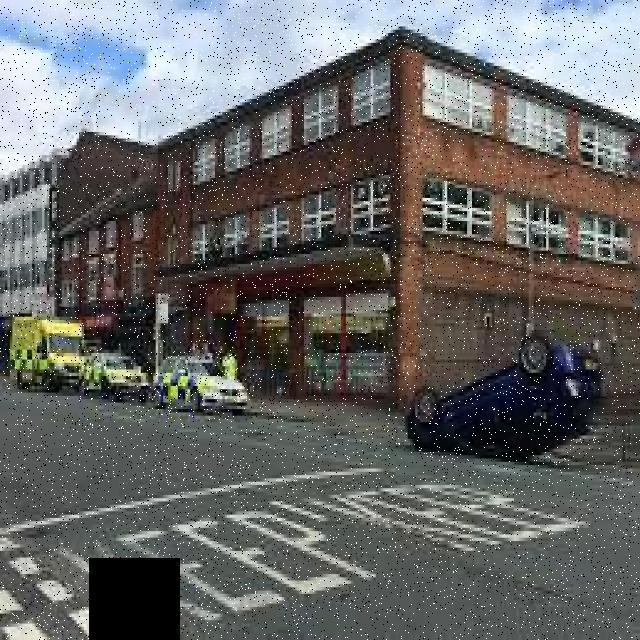severe: (405, 332, 608, 464)
